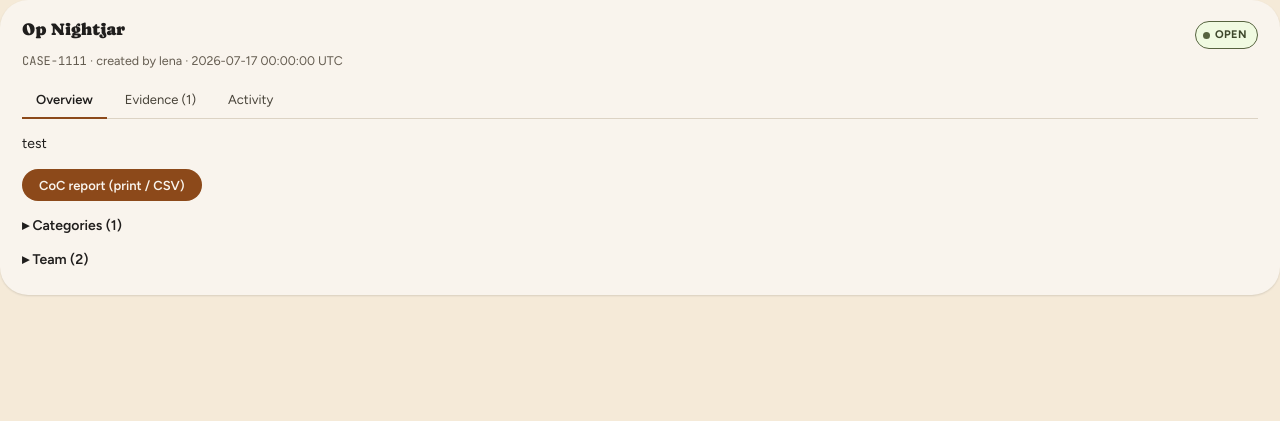
Test: CaseDetailPage (M23 tabs; M25 overview sections) › M25: Categories are collapsed until pressed, then the list shows
Expected: the heading "Op Nightjar" is shown, [22, 18, 125, 40]
Expected: the text "Disk Images" is not shown
What coordinates should you click on to do the following:
click the button "▸ Categories (1)"
I would click on:
 (72, 226)
Its box is [22, 217, 122, 234].
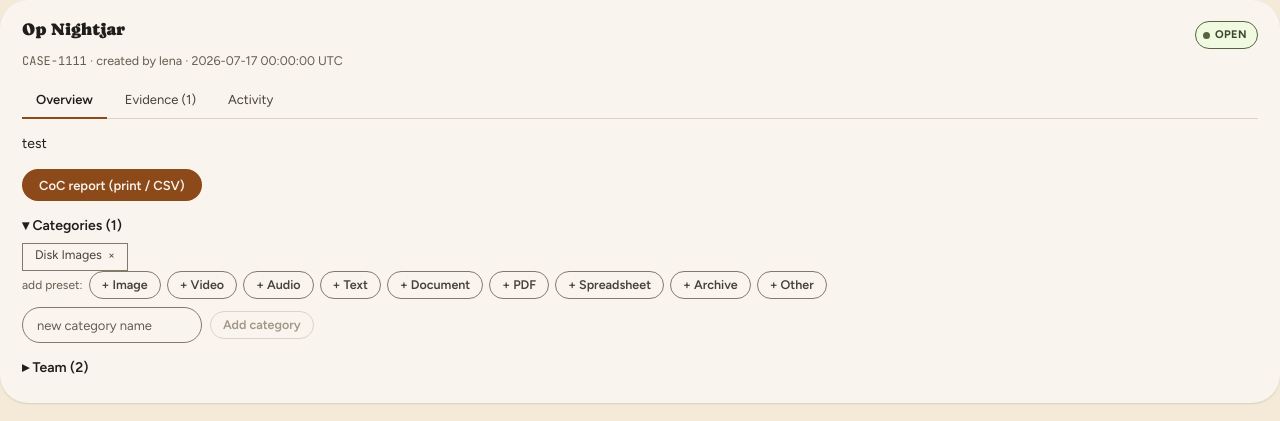
Now the text "Disk Images" is shown, box [35, 247, 102, 262]
